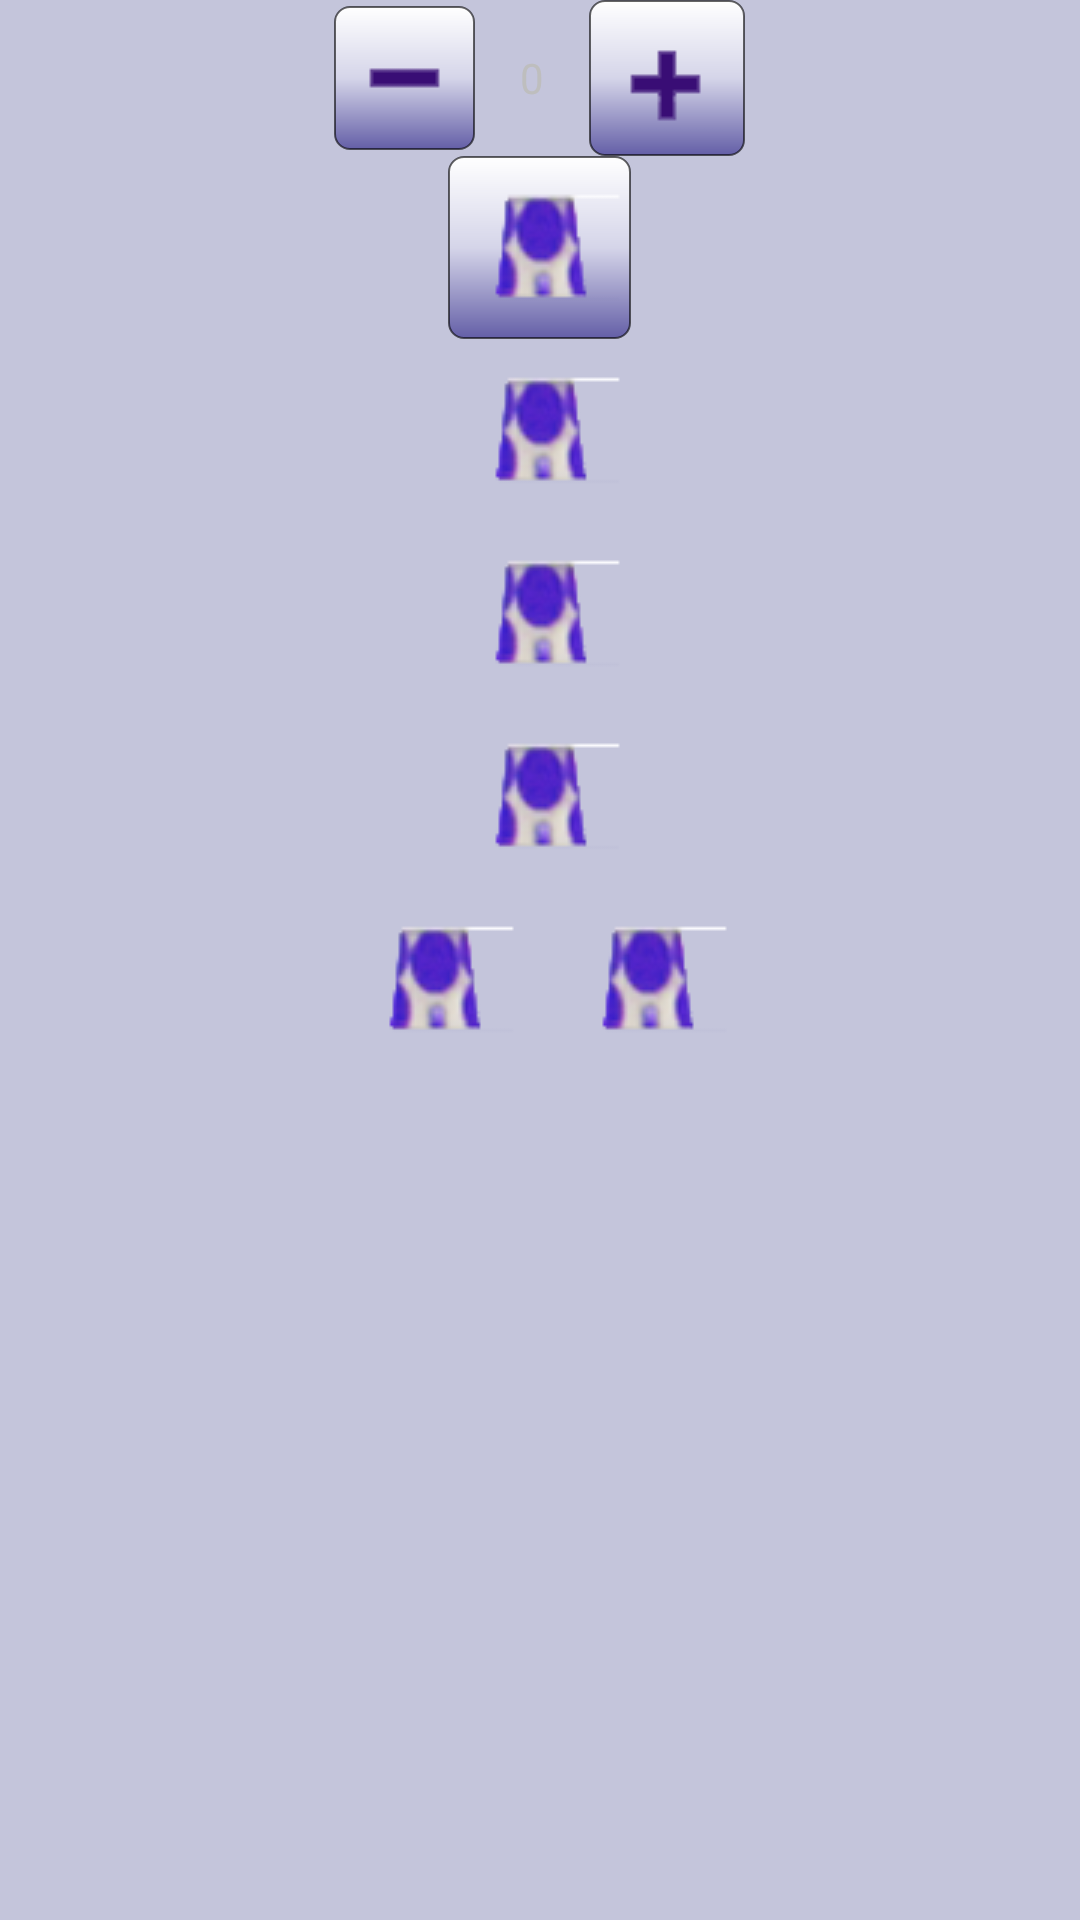

Where icons sit on this 1080x1920 app screen, as [x1,y1,x2,y2]:
add: [589,0,745,156]
body part: [448,156,631,339], [495,378,619,481], [495,561,619,664], [495,744,619,847], [389,927,513,1030], [602,927,726,1030]
minus: [334,6,475,150]
